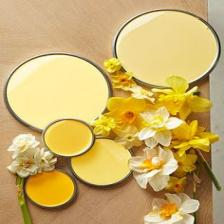yellow: (70, 139, 132, 186), (153, 76, 213, 120), (104, 58, 155, 102), (43, 120, 95, 157), (170, 121, 219, 157), (27, 172, 74, 207), (104, 97, 147, 128), (90, 116, 118, 137), (107, 97, 146, 112)
